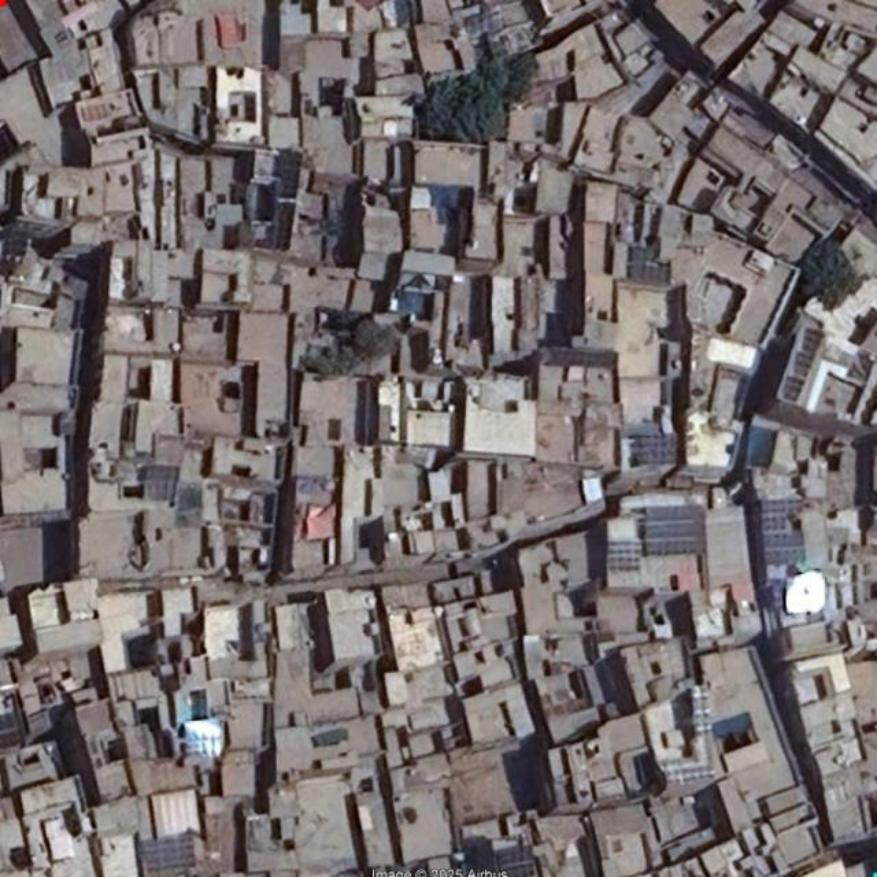Solarpanel: (646, 501, 706, 553), (762, 499, 804, 566), (137, 834, 195, 871), (497, 846, 537, 876), (639, 436, 679, 462), (609, 540, 643, 570)
